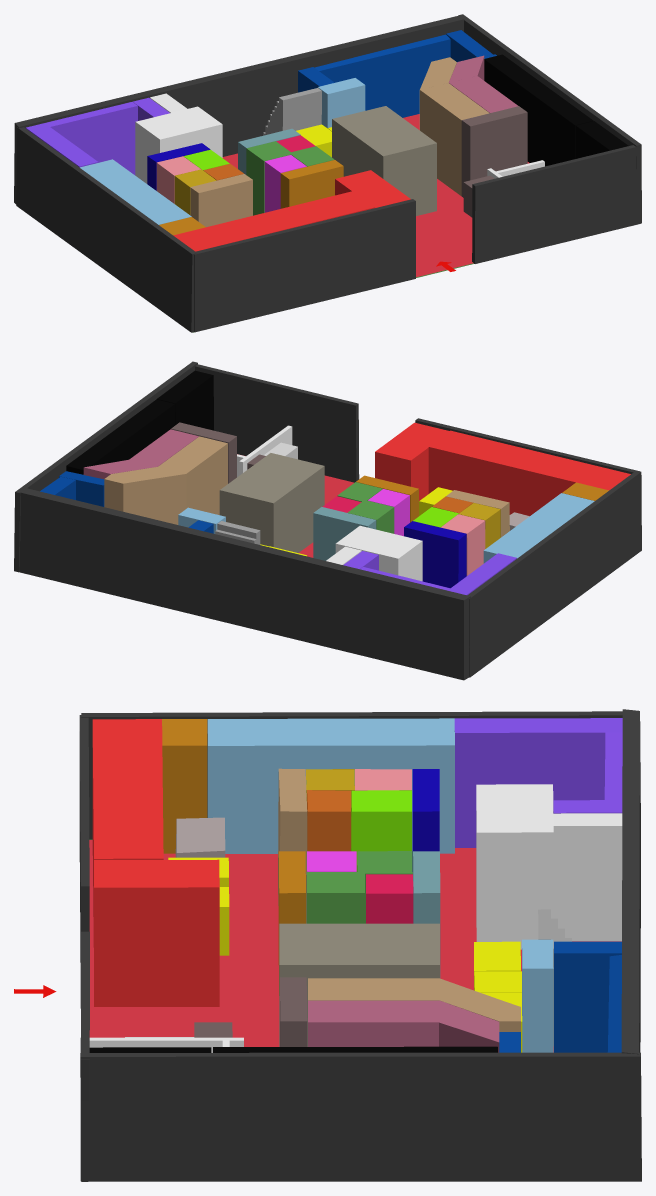
File: ModelOne.glb
3 views of the same model, one above another, from view 1: azimuth 30°, elevation 25°; view 2: azimuth 150°, elevation 25°; view 3: azimuth 270°, elevation 25° (orthographic). The views are drawn at different scales.
Visible parts, largest first — view 1: 4 WALL, 2 WALL, 5 WALL, 1 WALL, COFFEE/MILK, 2 TOILET, LIQUOR / WINES, BISCUITS, LANDSCAPE.001, 2 JUNK FOOD, CHOCOLATE #1, 2 DISHWASHING/LAUNDRY (+23 smaller); view 2: 1 WALL, 2 WALL, 5 WALL, 2 JUNK FOOD, COFFEE/MILK, BISCUITS, LIQUOR / WINES, 1 JUNK FOOD, WATER, 3 WALL, BEVERAGES, 1 LIQUOR STORAGE (+21 smaller); view 3: 3 WALL, BEVERAGES, LANDSCAPE.001, 1 JUNK FOOD, 1 DISHWASHING/LAUNDRY, 1 LIQUOR STORAGE, 2 JUNK FOOD, COFFEE/MILK, 2 LIQUOR STORAGE, CANDIES.001, 1 WALL, 1 TOILET (+29 smaller).
Boxes of the visible parts, <box> form: 4 WALL: <box>194,199,415,332</box>; 2 WALL: <box>16,127,197,332</box>; 5 WALL: <box>472,145,641,263</box>; 1 WALL: <box>14,15,464,204</box>; COFFEE/MILK: <box>332,106,436,215</box>; 2 TOILET: <box>314,34,450,117</box>; LIQUOR / WINES: <box>484,54,593,166</box>; BISCUITS: <box>419,57,489,195</box>; LANDSCAPE.001: <box>222,114,529,277</box>; 2 JUNK FOOD: <box>173,191,375,251</box>; CHOCOLATE #1: <box>461,106,527,197</box>; 2 DISHWASHING/LAUNDRY: <box>45,101,137,175</box>; 1 WALL: <box>19,488,470,680</box>; 2 WALL: <box>467,470,641,677</box>; 5 WALL: <box>195,364,359,482</box>; 2 JUNK FOOD: <box>428,430,630,516</box>; COFFEE/MILK: <box>219,453,324,552</box>; BISCUITS: <box>104,436,227,524</box>; LIQUOR / WINES: <box>66,399,174,474</box>; 1 JUNK FOOD: <box>375,422,449,500</box>; WATER: <box>404,521,466,588</box>; 3 WALL: <box>14,361,197,572</box>; BEVERAGES: <box>483,493,594,563</box>; 1 LIQUOR STORAGE: <box>335,525,422,581</box>; 3 WALL: <box>80,1052,641,1181</box>; BEVERAGES: <box>207,718,454,853</box>; LANDSCAPE.001: <box>89,840,621,1052</box>; 1 JUNK FOOD: <box>94,859,219,1006</box>; 1 DISHWASHING/LAUNDRY: <box>454,718,622,847</box>; 1 LIQUOR STORAGE: <box>476,784,553,949</box>; 2 JUNK FOOD: <box>92,719,163,947</box>; COFFEE/MILK: <box>279,923,439,1046</box>; 2 LIQUOR STORAGE: <box>553,813,622,941</box>; CANDIES.001: <box>308,1000,499,1052</box>; 1 WALL: <box>621,709,640,1054</box>; 1 TOILET: <box>554,941,621,1052</box>.
Bounding box in the file's own units: 81.69 × 13.97 × 62.49.
